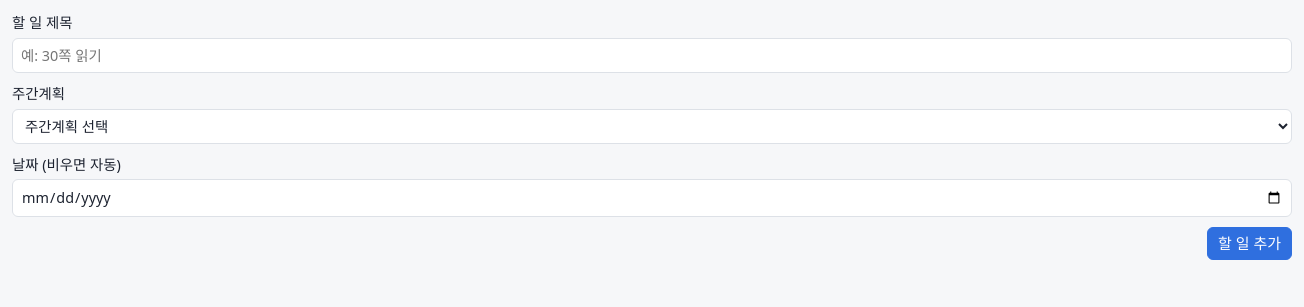
Test: TodoForm › submits trimmed values and shows a server error message
In the field labelled "할 일 제목": {"x": 652, "y": 55} [12,38,1292,73], type "  30쪽 읽기 "
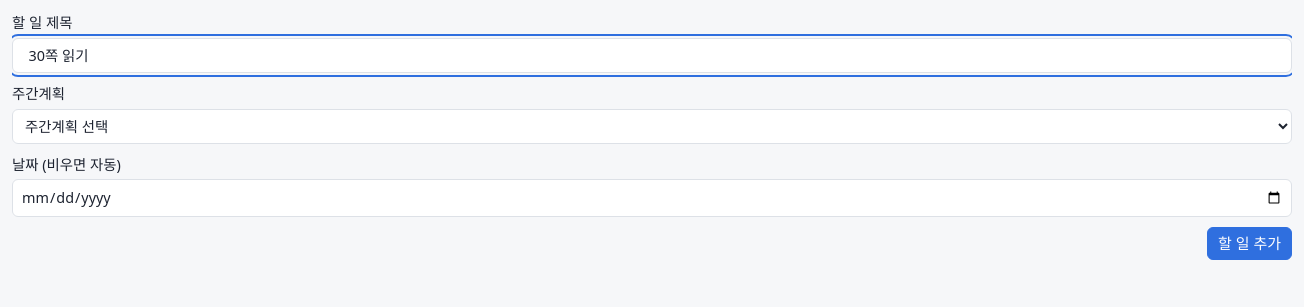
Select "독서 주간 (2030-03-04 주)" in the dropdown labelled "주간계획": {"x": 652, "y": 126} [12,109,1292,144]
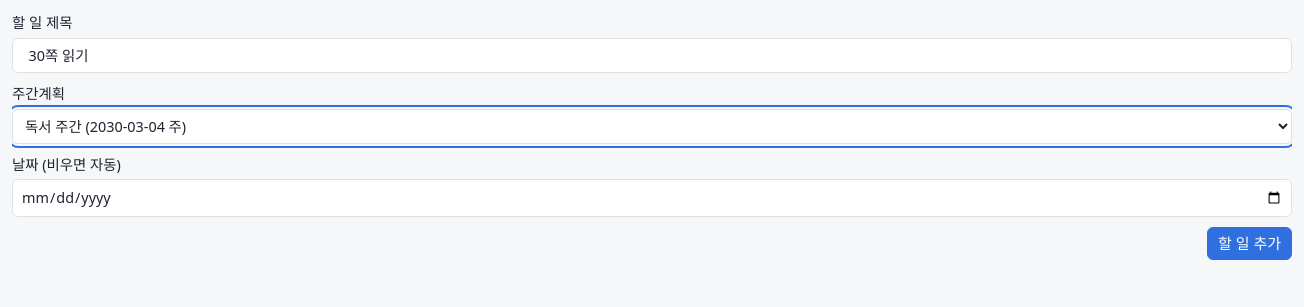
Click the button "할 일 추가": {"x": 1250, "y": 243} [1207,227,1292,260]
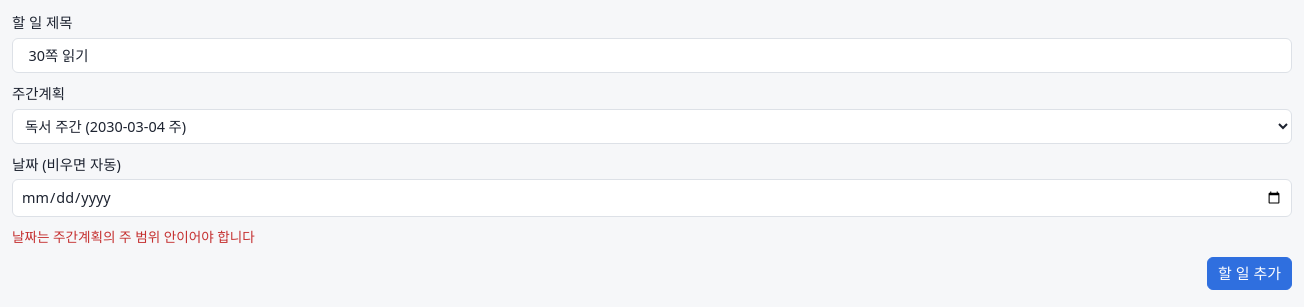
Expected: the message reads "날짜는 주간계획의 주 범위 안이어야 합니다", [12,227,255,246]
